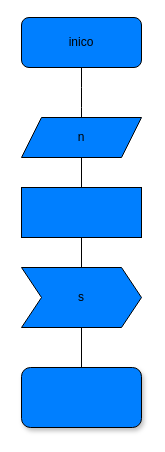
This 165x452 diagram has some shape labels left out. Each missing label, with the centre of its shape:
fin: the point at 82,398
s=(n(n+1))/2: the point at 81,212
